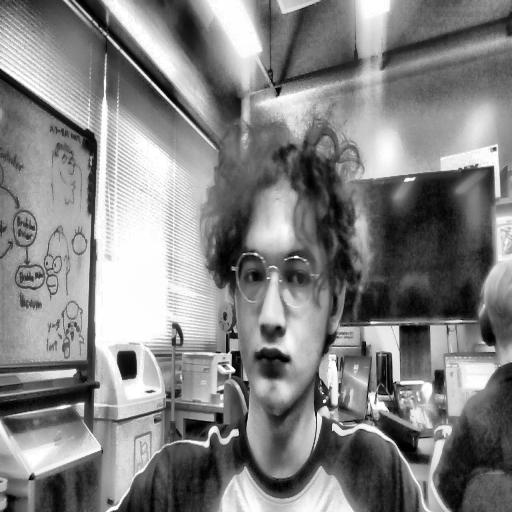Daifuku: (198, 116, 362, 402)
Not Daifuku: (476, 245, 512, 373)
